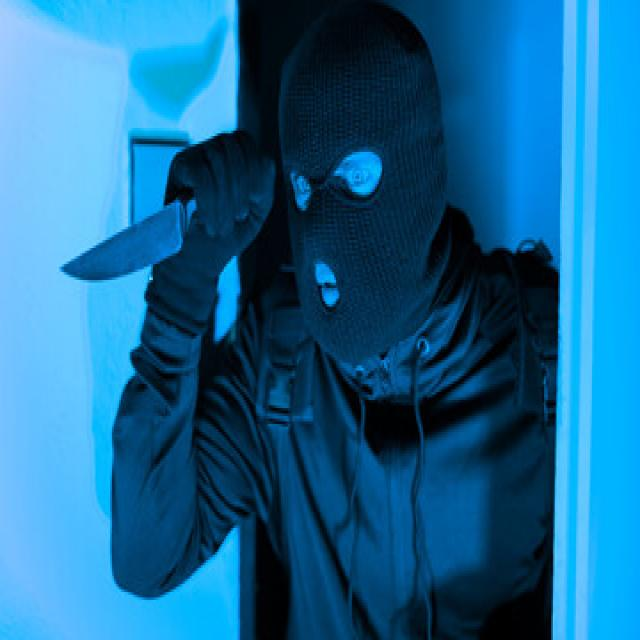masked-intruders: (169, 316, 477, 637)
